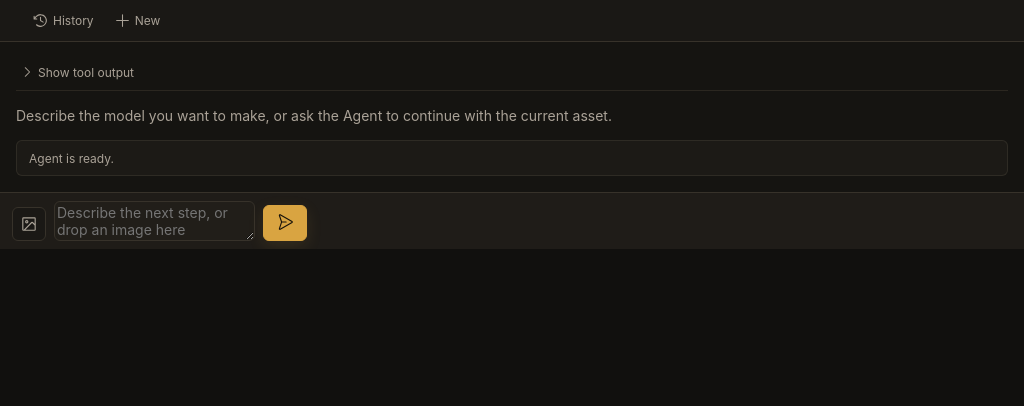
Test: AgentPanel › creates a live conversation and exposes durable paid approvals
The width and height of the screenshot is (1024, 406).
Type "Create a model" into the text box named "Message the Agent" at coordinates (154, 221), box left=54, top=201, right=255, bottom=241
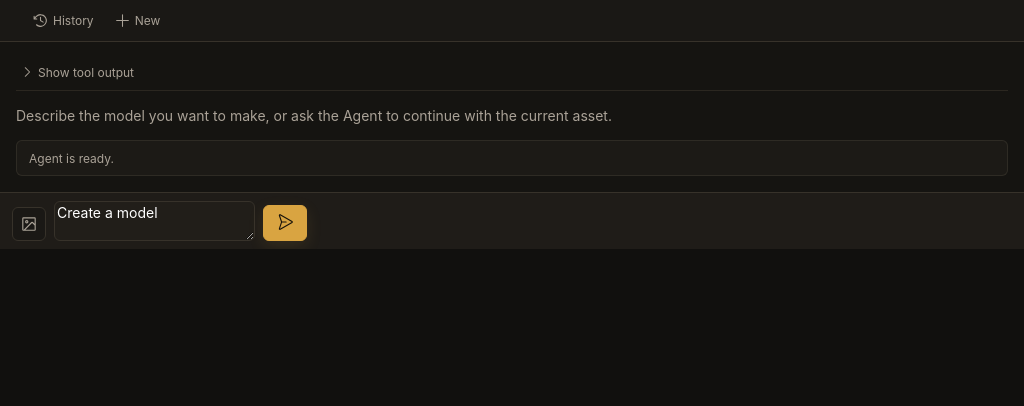
Click the button named "Send to Agent" at coordinates (285, 223), box left=263, top=205, right=307, bottom=241
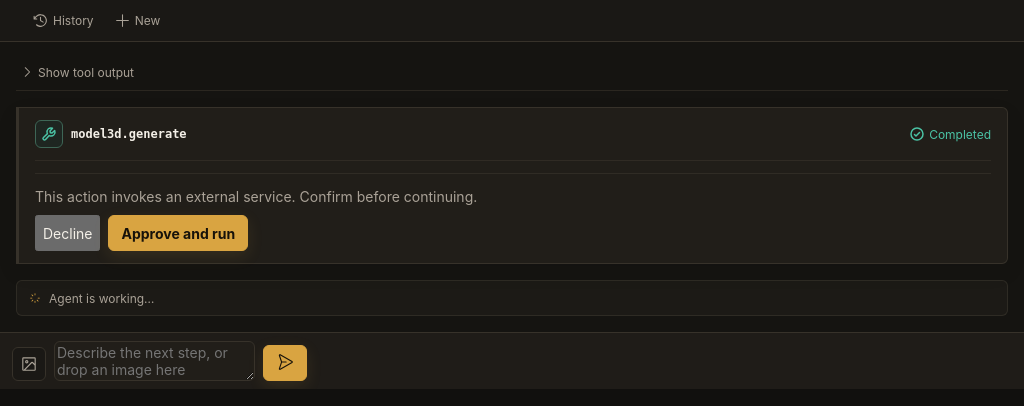
expect the button "Approve and run" is shown: met
Click the button "Approve and run" at coordinates (178, 233), box left=108, top=215, right=248, bottom=251
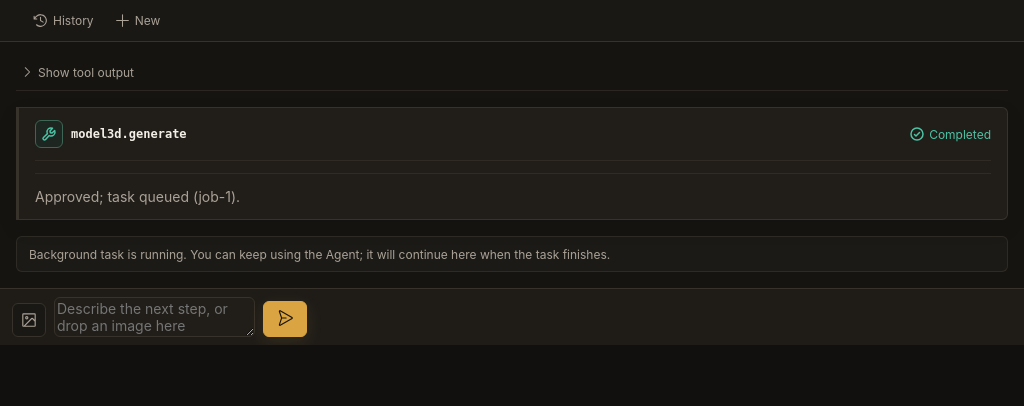
expect the message does not show "Waiting for your approval": met, box left=16, top=236, right=1008, bottom=272
expect the message does not show "Agent is ready": met, box left=16, top=236, right=1008, bottom=272
expect the message shows "Background task is running": met, box left=29, top=246, right=610, bottom=262
